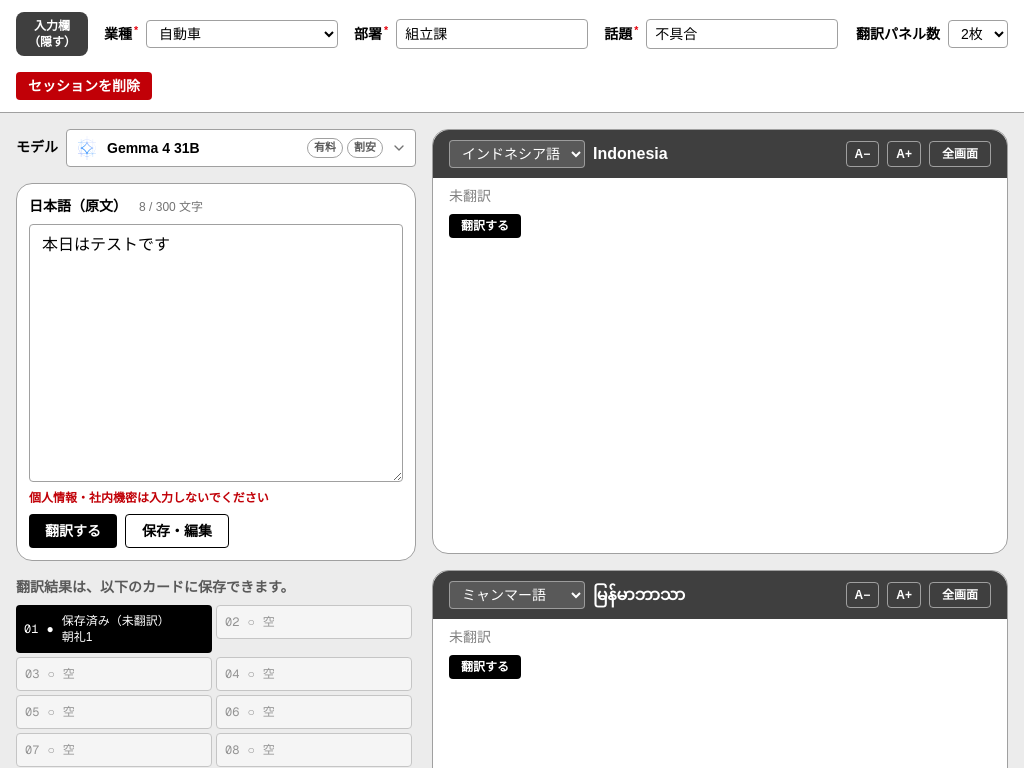
Test: HomePage panels › after a full translation the main button becomes 翻訳済み and stays disabled until the input changes
Expected: the text box showing "本日はテストです" is shown, [29, 224, 403, 482]
Click the button "翻訳する" below "個人情報・社内機密は入力しないでください". click: (73, 531)
box: [29, 514, 117, 548]
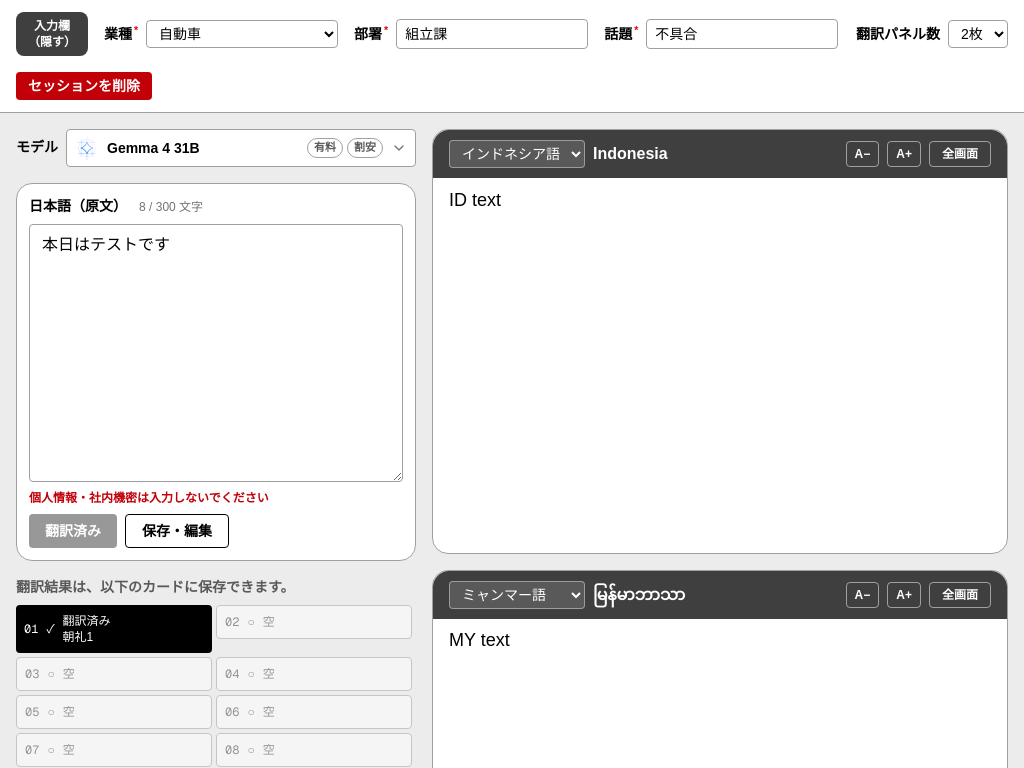
Result: the text "ID text" is shown at [449, 190, 501, 210]
Result: the button "翻訳済み" is disabled at [29, 514, 117, 548]
Replace the text in the text box labelled "日本語（原文）" with "別の連絡文です". click: (216, 353)
box: [29, 224, 403, 482]
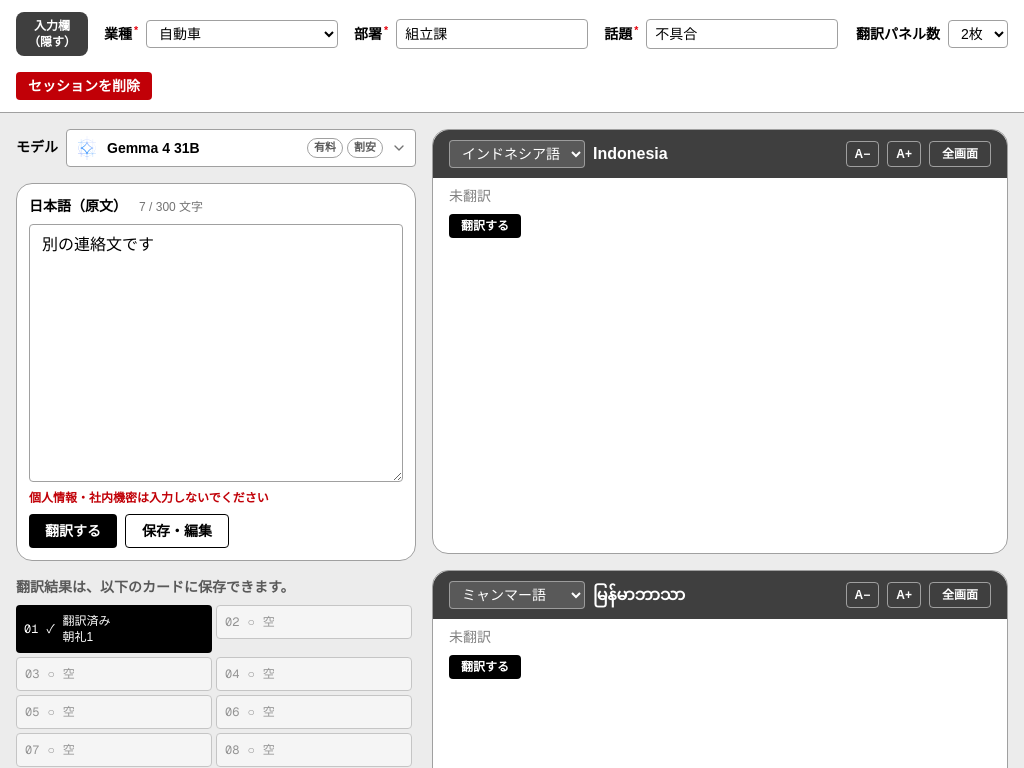
Result: the button "翻訳する" below "個人情報・社内機密は入力しないでください" is enabled at [29, 514, 117, 548]
